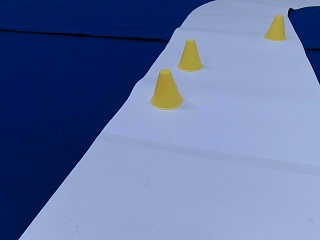cone: (151, 70, 183, 109), (178, 40, 203, 70), (264, 15, 286, 40)
